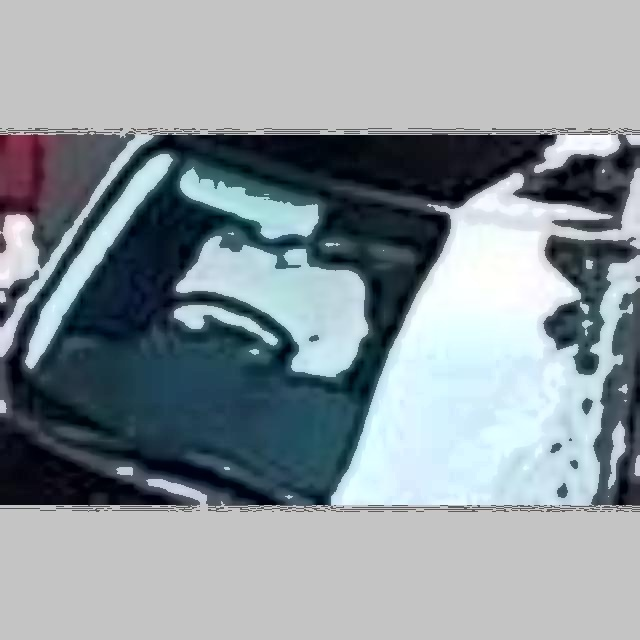tidak-pakai: (163, 191, 371, 382)
